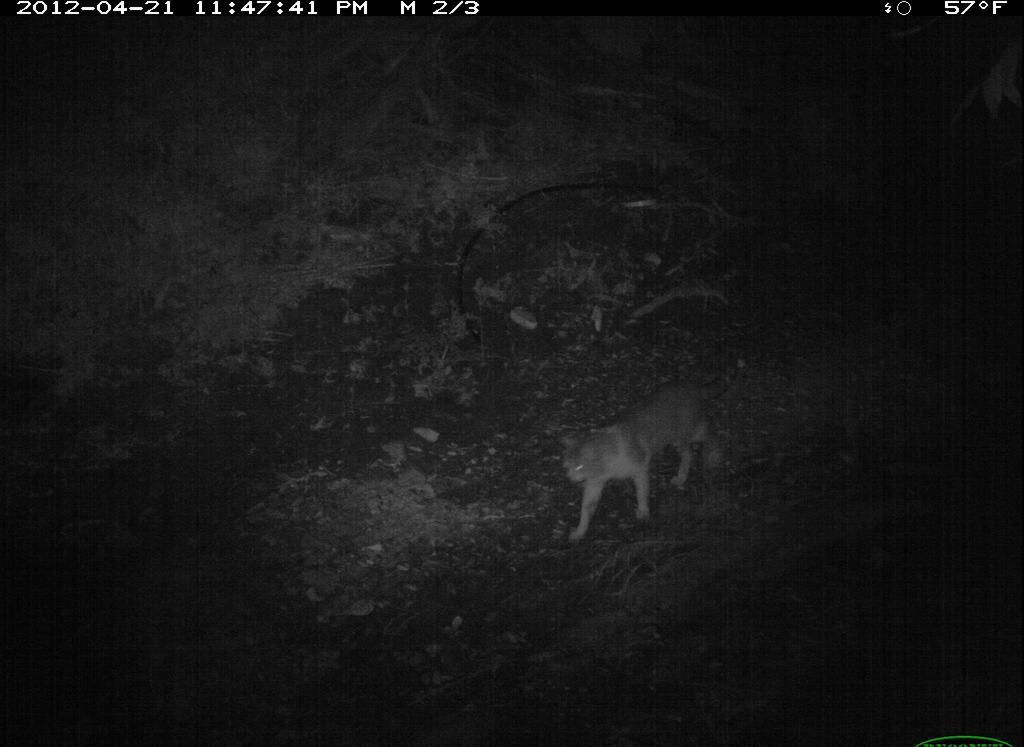cat: (557, 350, 756, 548)
